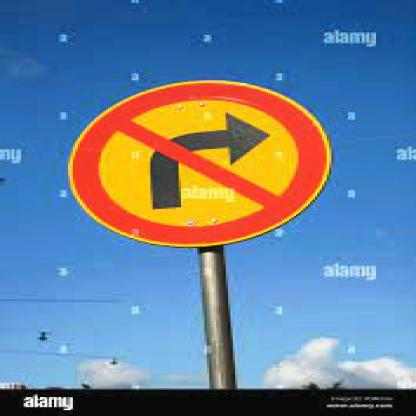No right turn: (65, 71, 334, 250)
